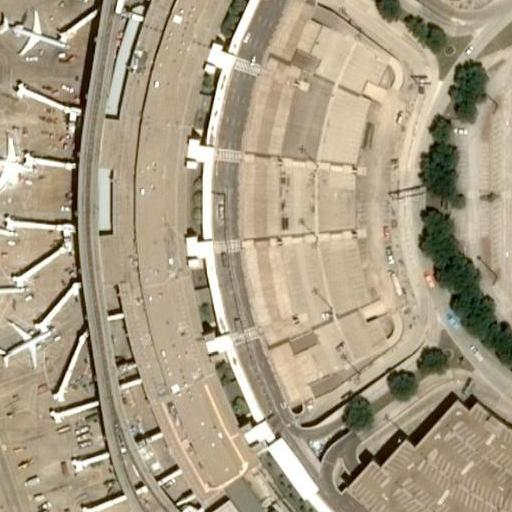Aircraft: (0, 3, 65, 56), (0, 310, 51, 374), (0, 134, 32, 183), (0, 266, 24, 317), (0, 198, 6, 248)
